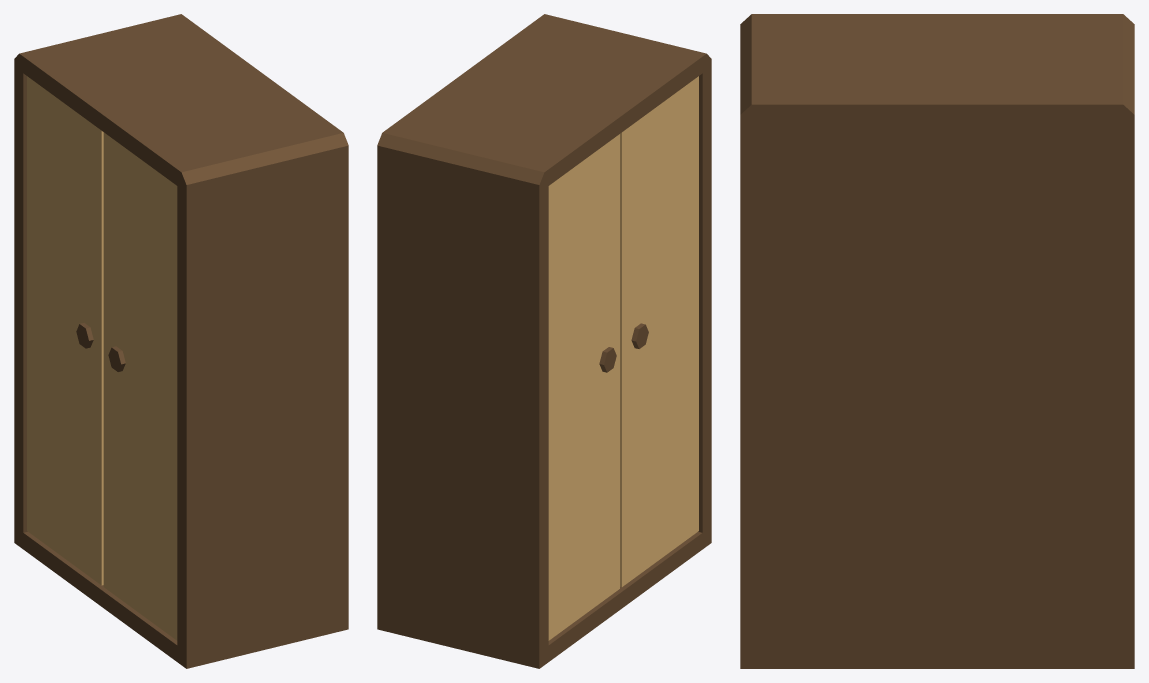
The model's file is Wardrobe.fbx.
3 renders of one model, left to right at view 1: azimuth 30°, elevation 25°; view 2: azimuth 150°, elevation 25°; view 3: azimuth 270°, elevation 25°, orthographic. The views are drawn at different scales.
Parts seen in each view (by area): view 1: Wardrobe; view 2: Wardrobe; view 3: Wardrobe.
Part boxes in pixels (x1,y1,x2,y2): Wardrobe: [14, 14, 348, 668]; Wardrobe: [377, 14, 711, 668]; Wardrobe: [740, 14, 1134, 668].
Size of the model in its own units: 0.588 by 1.69 by 1.07.
